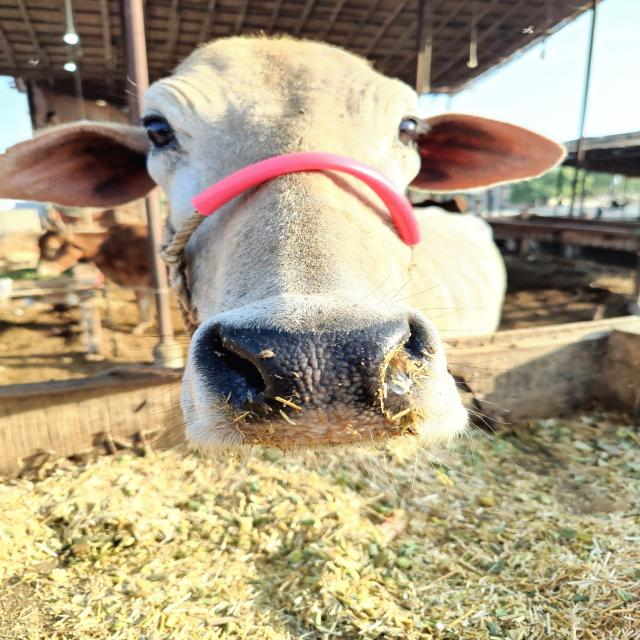muzzles: (187, 309, 441, 456)
